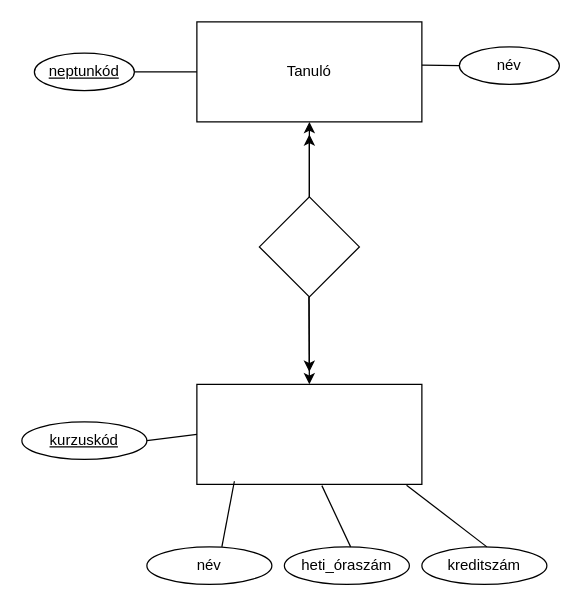
Image size: 581x606. Some labels were removed from this diagram. Here are the shapes that lost their labels. From the top down, the centre of each, then its label:
At [308,246]: "t-k".
At [309,433]: "Kurzus".
